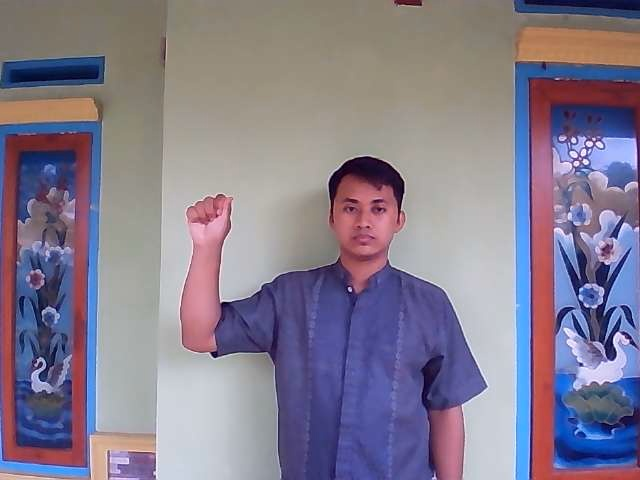A: (179, 189, 237, 264)
